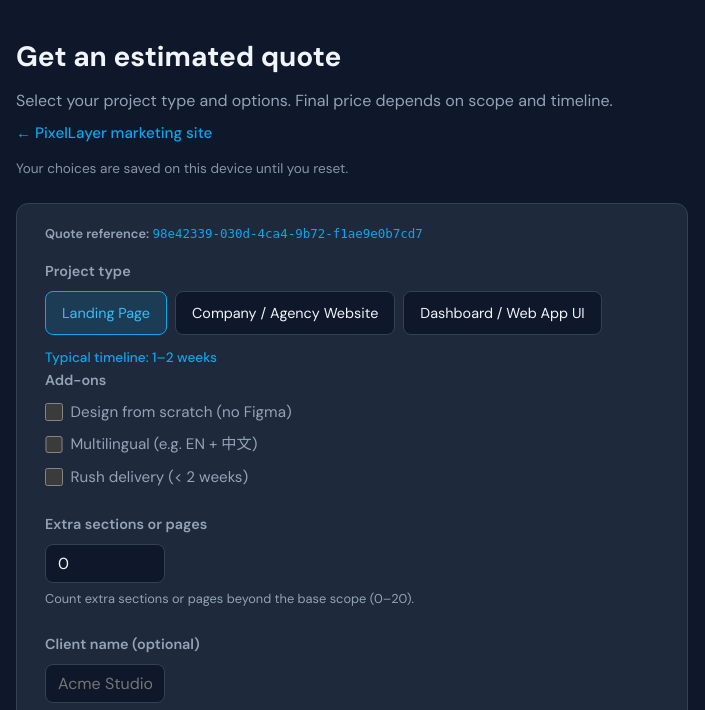
it: Calculator › reset restores defaults and persists default form
Click the radio button labelled "Dashboard / Web App UI" at (503, 313), box [403, 291, 602, 335]
(page scrolled)
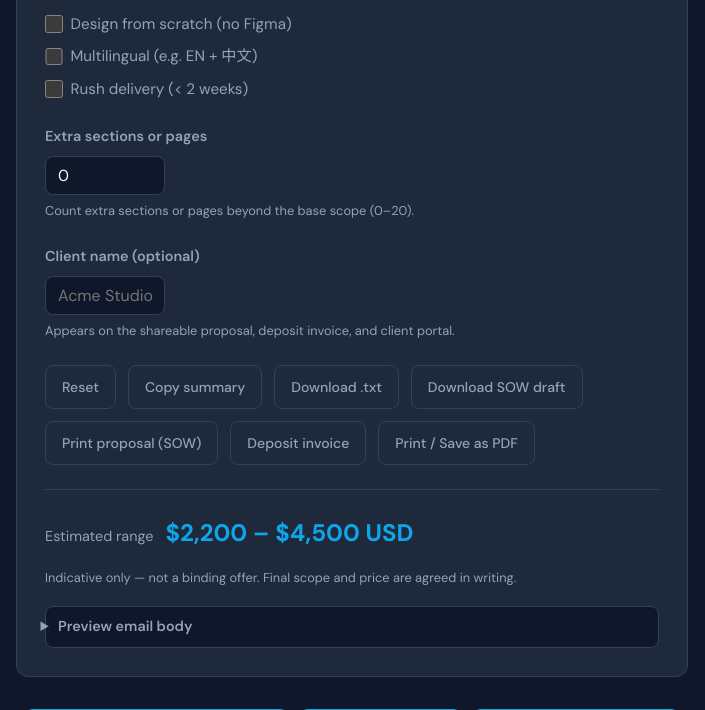
Click the button "Reset" at (80, 387), box [45, 365, 116, 409]
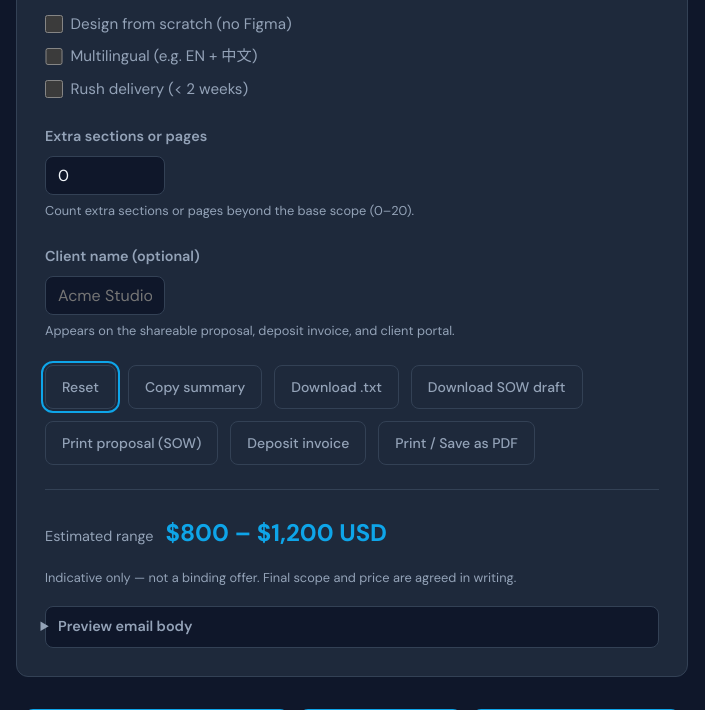
Result: the text with class "calc-result-value" shows "$800" at [165, 514, 387, 553]
